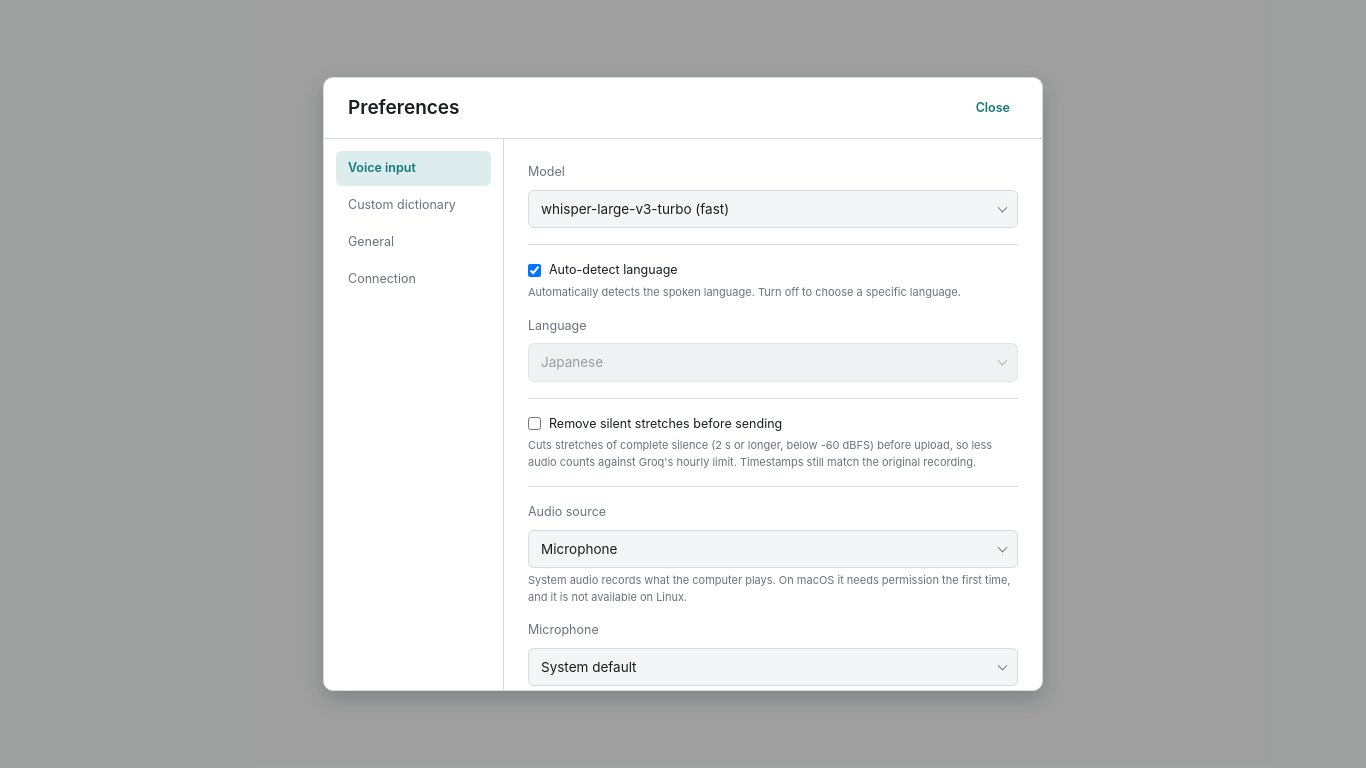
Test: PreferencesView - section navigation › switches sections via the settings nav
This screenshot has width=1366, height=768.
Expected: the dropdown labelled "Model" is shown, [528, 190, 1018, 228]
Click the button "Custom dictionary".
click(414, 205)  # box [336, 188, 491, 223]
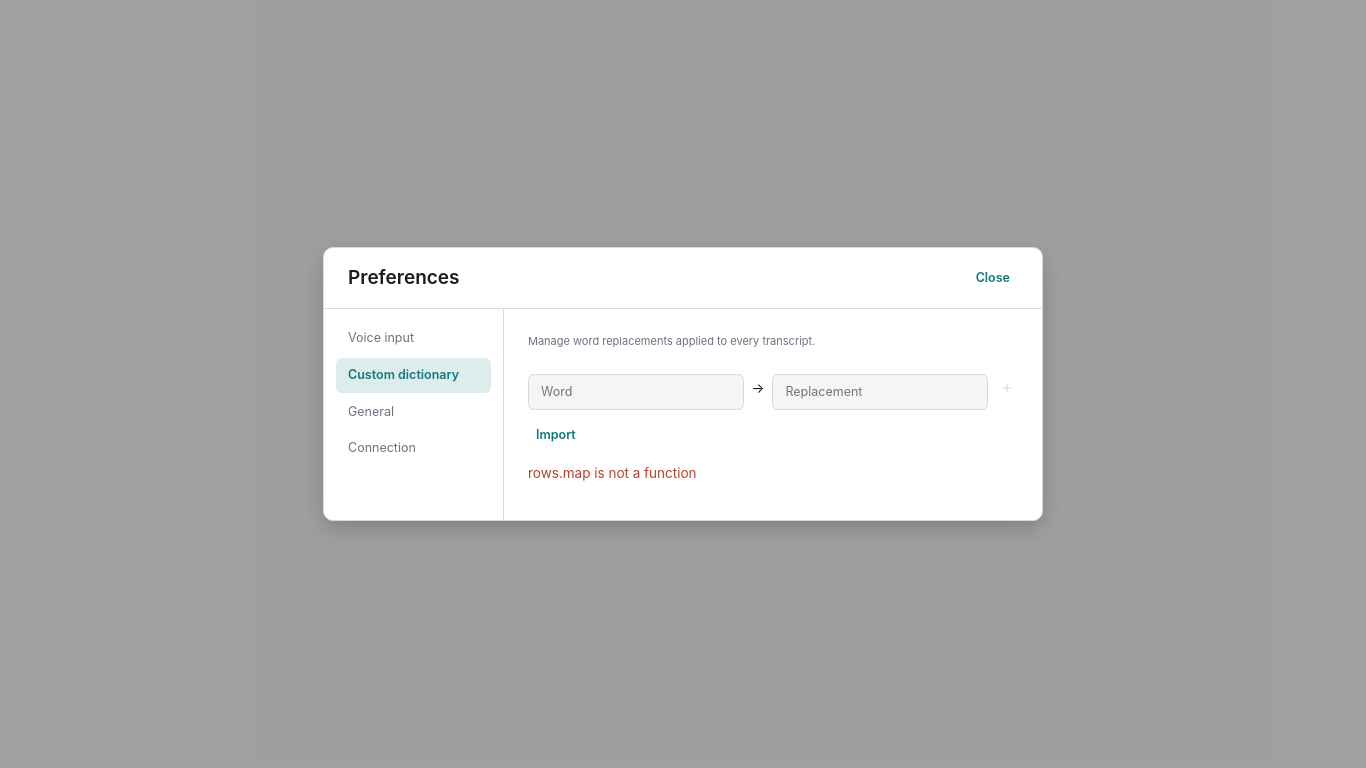
Expected: the text "Manage word replacements applied to every transcript." is shown, [528, 334, 815, 348]
